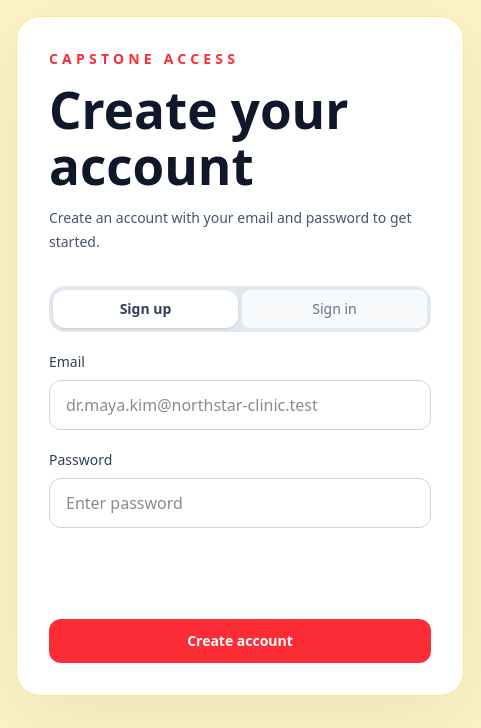
Test: LoginPage › defaults to the sign up flow and can switch to sign in
This screenshot has width=481, height=728.
expect the heading "Create your account" is shown: met, box [49,74,348,200]
What coordinates should you click on to do the following:
click the button "Sign in"
I would click on:
 (334, 309)
Its box is [242,290,427,328].
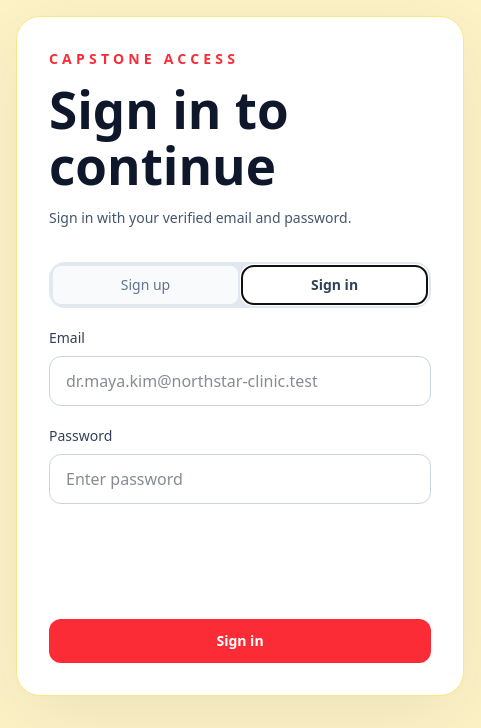
expect the heading "Sign in to continue" is shown: met, box [49,74,289,200]
